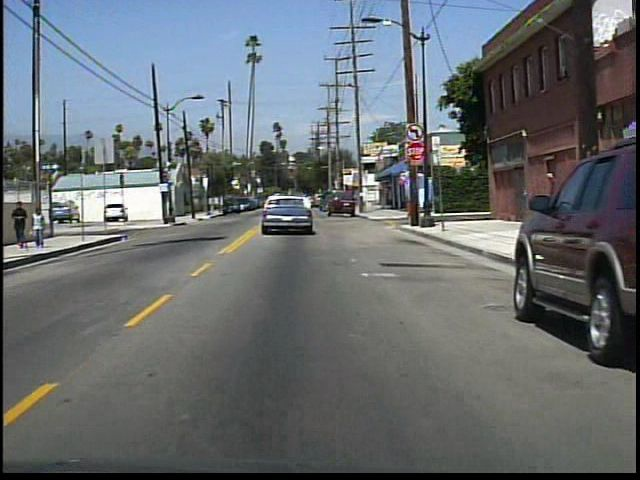person: (14, 200, 34, 249), (33, 206, 53, 250)
